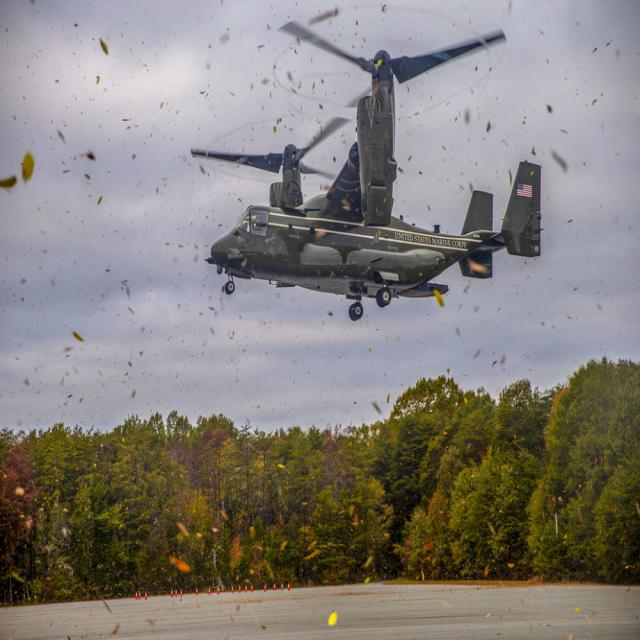MIL_Plane: (190, 20, 545, 322)
